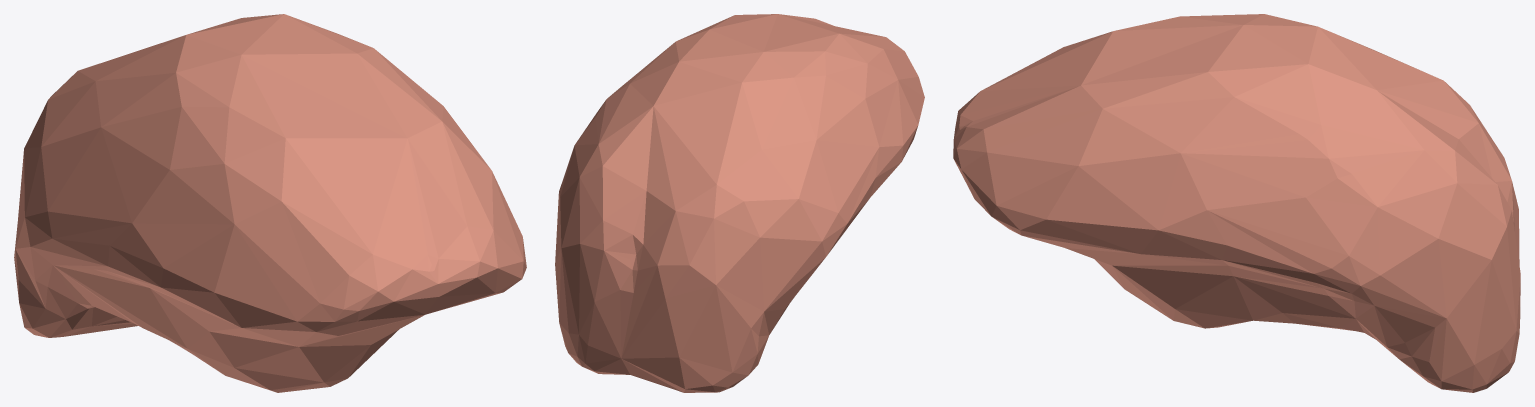
Rendered from tongue.glb.
The picture shows the model from 3 angles, left to right: view 1: azimuth 30°, elevation 25°; view 2: azimuth 150°, elevation 25°; view 3: azimuth 270°, elevation 25°; orthographic projection. The views are drawn at different scales.
Visible parts, largest first — view 1: Tongue; view 2: Tongue; view 3: Tongue.
Part boxes in pixels (left/top/right/bottom): Tongue: left=14, top=14, right=526, bottom=392; Tongue: left=555, top=14, right=924, bottom=392; Tongue: left=953, top=14, right=1520, bottom=392.
Bounding box in the file's own units: 38.77 × 36.36 × 59.43.
